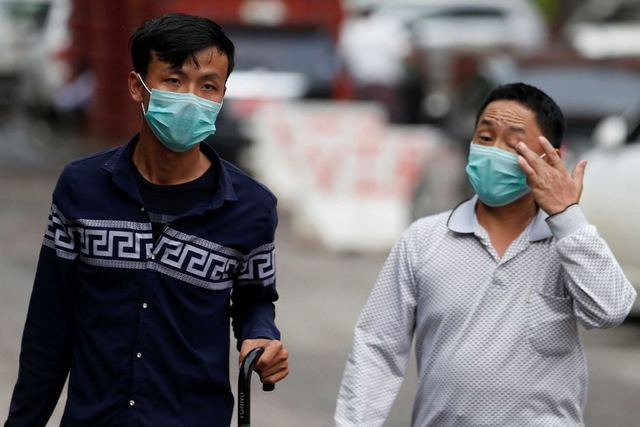mask: (466, 148, 535, 203), (149, 95, 217, 146)
